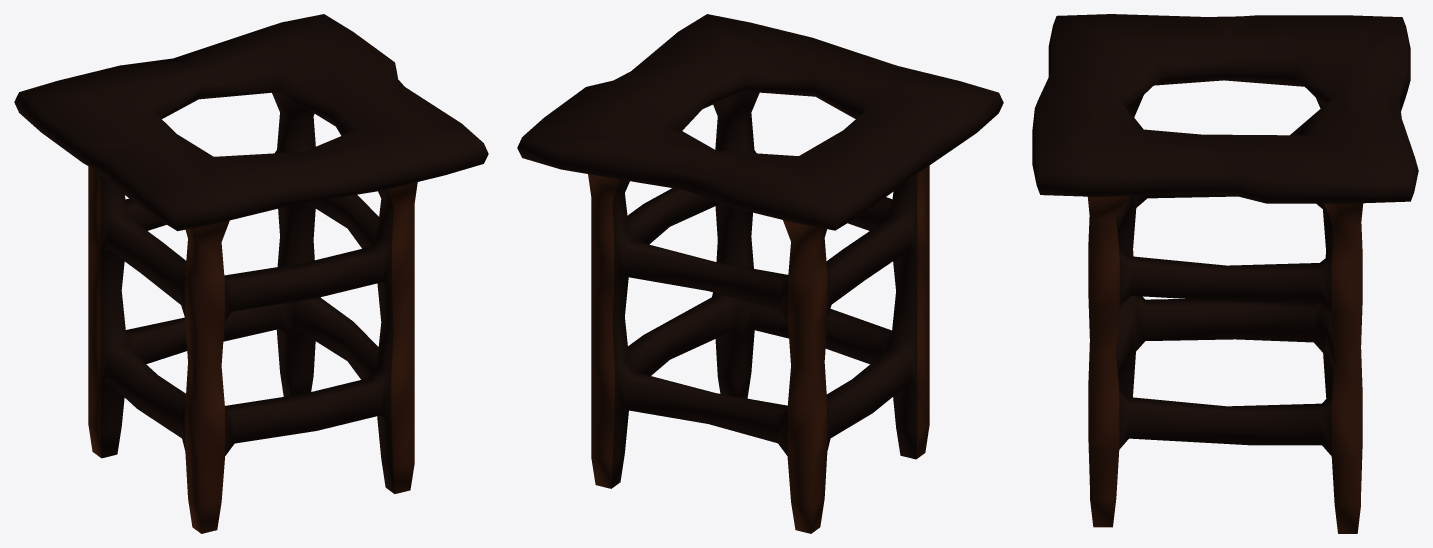
File: JumpingOutsideThingy.fbx
The picture shows the model from 3 angles, left to right: view 1: azimuth 30°, elevation 25°; view 2: azimuth 150°, elevation 25°; view 3: azimuth 270°, elevation 25°; orthographic projection. The views are drawn at different scales.
Parts seen in each view (by area): view 1: Box001; view 2: Box001; view 3: Box001.
Part boxes in pixels (left/top/right/bottom): Box001: left=14, top=14, right=488, bottom=533; Box001: left=517, top=14, right=1003, bottom=533; Box001: left=1032, top=14, right=1418, bottom=533.
Bounding box in the file's own units: 317 × 333 × 304.
